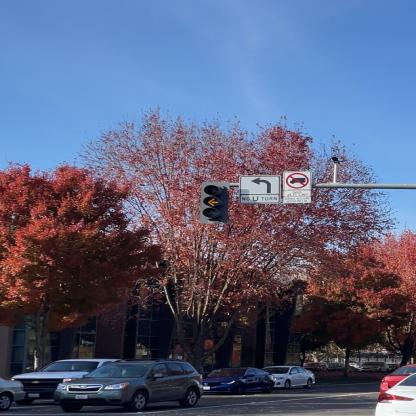left-yellow: (196, 180, 232, 225)
